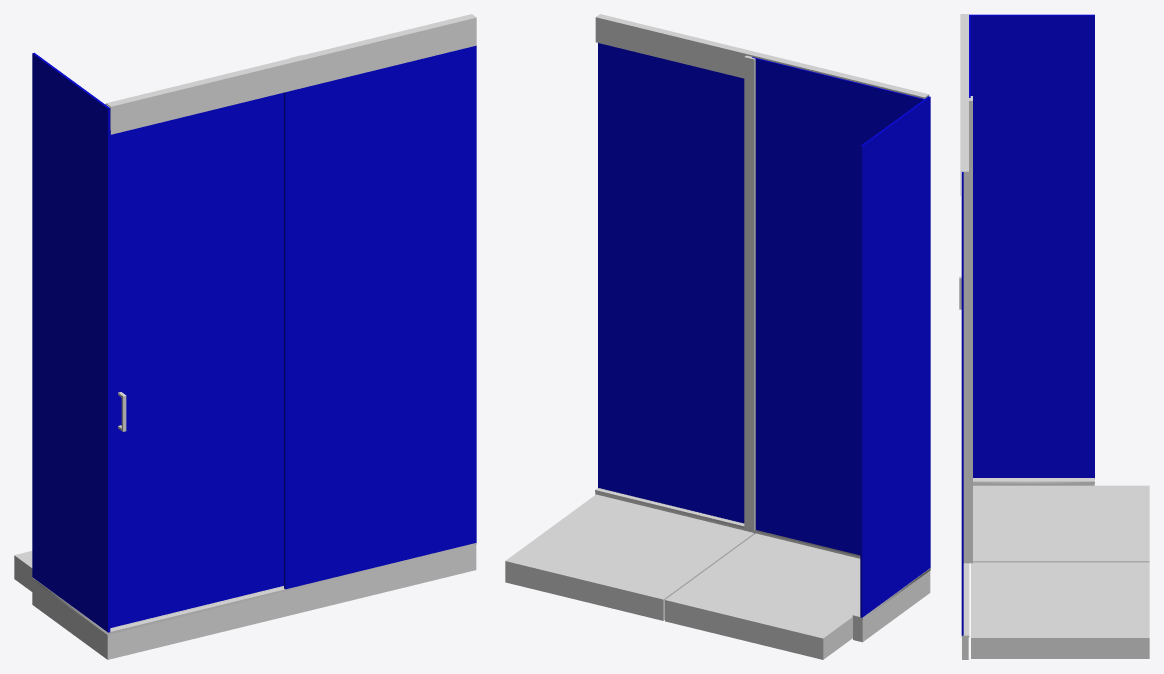
File: ShowerCabinBath01.fbx
3 renders of one model, left to right at view 1: azimuth 30°, elevation 25°; view 2: azimuth 150°, elevation 25°; view 3: azimuth 270°, elevation 25°, orthographic. The views are drawn at different scales.
Parts seen in each view (by area): view 1: Window3Bath01, Window1Bath01, Window2Bath01, UpperFrameBath01, LowerFrameBath01, OuterBentShowerRailBath01; view 2: Window3Bath01, Window1Bath01, Window2Bath01, ShowerCabinetFloor1Bath03, ShowerCabinetFloor2Bath03, UpperFrameBath01, ShowerSliderBath01, LowerFrameBath01, InnerBentShowerRailBath01; view 3: Window2Bath01, ShowerCabinetFloor1Bath03, ShowerCabinetFloor2Bath03, ShowerSliderBath01, UpperFrameBath01, Window3Bath01, LowerFrameBath01, InnerBentShowerRailBath01.
Boxes of the visible parts, bbox=[...] form: Window3Bath01: bbox=[284, 45, 476, 589]; Window1Bath01: bbox=[105, 92, 283, 628]; Window2Bath01: bbox=[32, 52, 110, 632]; UpperFrameBath01: bbox=[106, 14, 476, 134]; LowerFrameBath01: bbox=[32, 545, 476, 659]; OuterBentShowerRailBath01: bbox=[32, 543, 476, 634]; Window3Bath01: bbox=[598, 43, 744, 523]; Window1Bath01: bbox=[752, 57, 924, 555]; Window2Bath01: bbox=[860, 96, 930, 617]; ShowerCabinetFloor1Bath03: bbox=[505, 494, 754, 620]; ShowerCabinetFloor2Bath03: bbox=[665, 533, 860, 659]; UpperFrameBath01: bbox=[595, 14, 929, 98]; ShowerSliderBath01: bbox=[744, 55, 755, 530]; LowerFrameBath01: bbox=[595, 488, 930, 642]; InnerBentShowerRailBath01: bbox=[595, 489, 860, 617]; Window2Bath01: bbox=[969, 14, 1094, 477]; ShowerCabinetFloor1Bath03: bbox=[971, 562, 1149, 658]; ShowerCabinetFloor2Bath03: bbox=[973, 485, 1149, 562]; ShowerSliderBath01: bbox=[963, 96, 972, 563]; UpperFrameBath01: bbox=[960, 14, 968, 196]; Window3Bath01: bbox=[961, 172, 963, 635]; LowerFrameBath01: bbox=[962, 478, 1094, 659]; InnerBentShowerRailBath01: bbox=[967, 480, 1094, 637].
Bounding box in the file's own units: 162 × 232 × 82.
